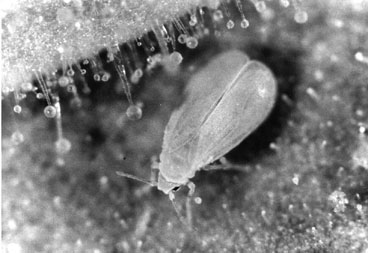whitefly: (117, 48, 276, 229)
